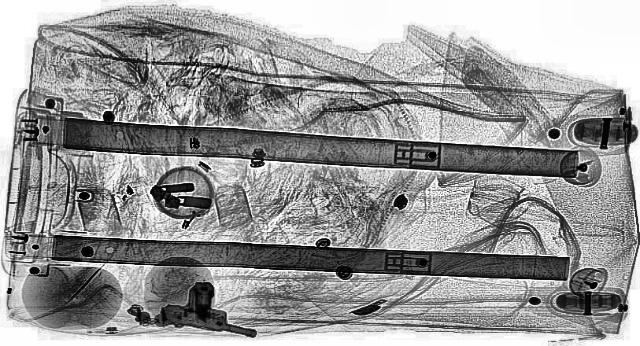Gun: (144, 277, 286, 341)
